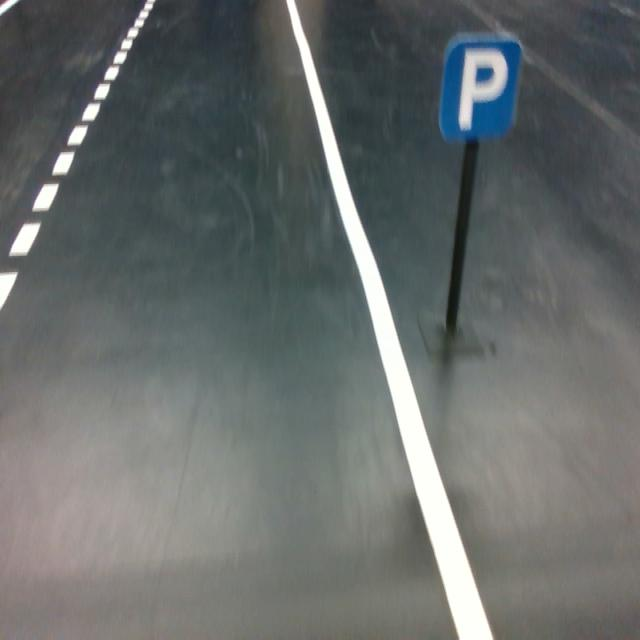parking-sign: (438, 33, 524, 145)
